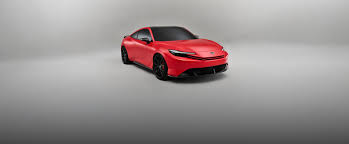car: (119, 25, 230, 79)
